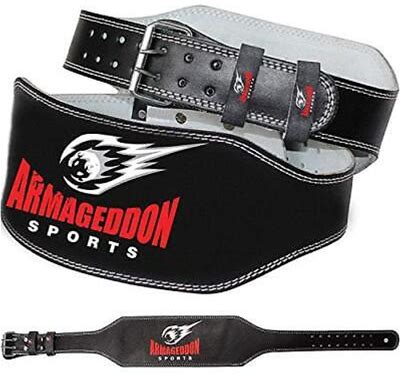cuero: (62, 8, 400, 162)
